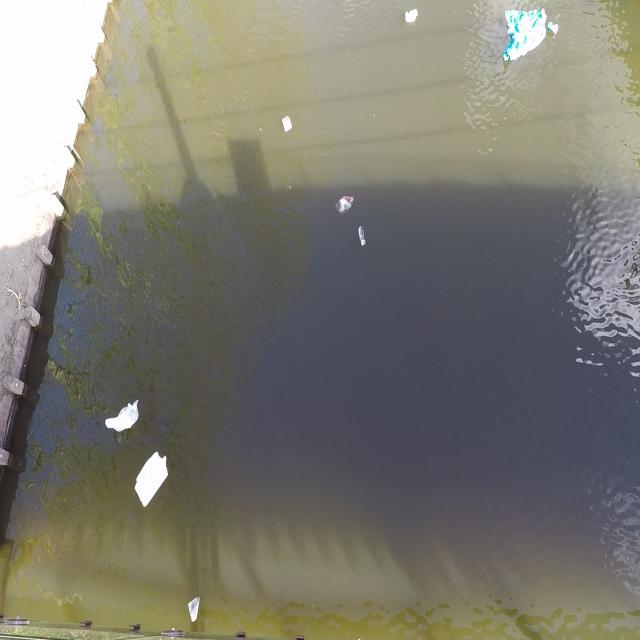Autre plastique: (130, 448, 172, 516), (278, 109, 296, 136), (400, 7, 423, 26)
Non plastique: (356, 220, 368, 250)
Sac plastique: (499, 2, 548, 72), (102, 394, 143, 436), (332, 188, 357, 218)
